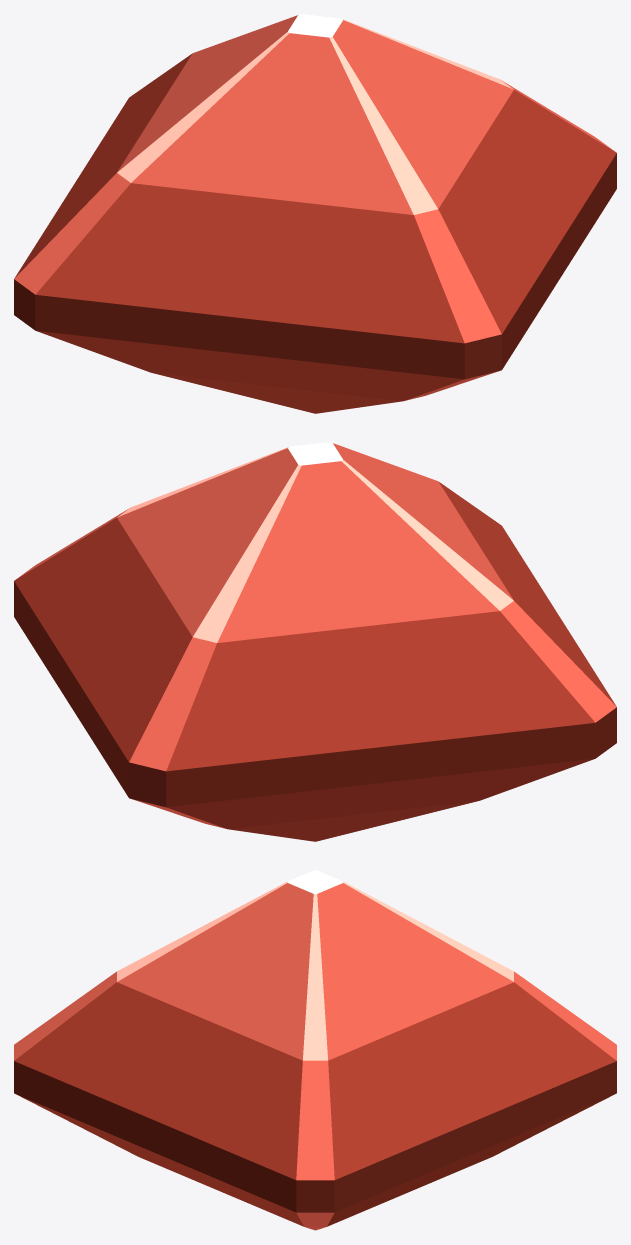
Rendered from gem_pyramid.glb.
3 views of the same model, one above another, from view 1: azimuth 30°, elevation 25°; view 2: azimuth 150°, elevation 25°; view 3: azimuth 270°, elevation 25° (orthographic). The views are drawn at different scales.
Parts seen in each view (by area): view 1: gem_pyramid; view 2: gem_pyramid; view 3: gem_pyramid.
Part boxes in pixels (bbox=[...]): gem_pyramid: bbox=[14, 14, 616, 413]; gem_pyramid: bbox=[14, 442, 616, 841]; gem_pyramid: bbox=[14, 870, 616, 1230].
Size of the model in its own units: 11.84 by 7.55 by 11.84.
